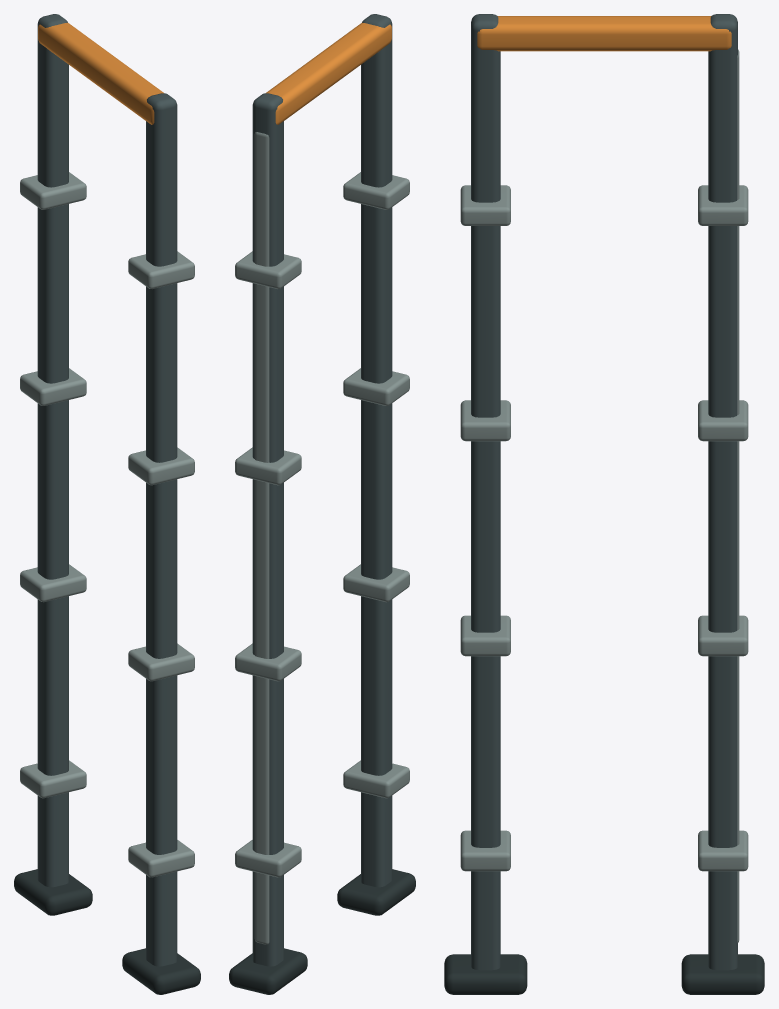
File: shelf-upright-180.glb
3 views of the same model, side by side, from view 1: azimuth 30°, elevation 25°; view 2: azimuth 150°, elevation 25°; view 3: azimuth 270°, elevation 25° (orthographic). The views are drawn at different scales.
Visible parts, largest first — view 1: shelf-upright-180 / 06 • dark anodized frame, shelf-upright-180 / 05 • brushed titanium, shelf-upright-180 / 03 • ochre enamel, shelf-upright-180 / 04 • graphite gasket; view 2: shelf-upright-180 / 06 • dark anodized frame, shelf-upright-180 / 05 • brushed titanium, shelf-upright-180 / 03 • ochre enamel, shelf-upright-180 / 04 • graphite gasket; view 3: shelf-upright-180 / 06 • dark anodized frame, shelf-upright-180 / 05 • brushed titanium, shelf-upright-180 / 03 • ochre enamel, shelf-upright-180 / 04 • graphite gasket.
Part boxes in pixels (x1=…): shelf-upright-180 / 06 • dark anodized frame: x1=37, y1=14, x2=177, y2=966; shelf-upright-180 / 05 • brushed titanium: x1=20, y1=172, x2=194, y2=877; shelf-upright-180 / 03 • ochre enamel: x1=38, y1=22, x2=163, y2=124; shelf-upright-180 / 04 • graphite gasket: x1=14, y1=869, x2=200, y2=994; shelf-upright-180 / 06 • dark anodized frame: x1=252, y1=14, x2=392, y2=966; shelf-upright-180 / 05 • brushed titanium: x1=235, y1=132, x2=409, y2=944; shelf-upright-180 / 03 • ochre enamel: x1=266, y1=22, x2=391, y2=124; shelf-upright-180 / 04 • graphite gasket: x1=229, y1=869, x2=415, y2=994; shelf-upright-180 / 06 • dark anodized frame: x1=471, y1=14, x2=737, y2=970; shelf-upright-180 / 05 • brushed titanium: x1=460, y1=49, x2=748, y2=942; shelf-upright-180 / 03 • ochre enamel: x1=477, y1=16, x2=731, y2=51; shelf-upright-180 / 04 • graphite gasket: x1=444, y1=954, x2=764, y2=994.
Size of the model in its own units: 0.1 by 1.8 by 0.54.
